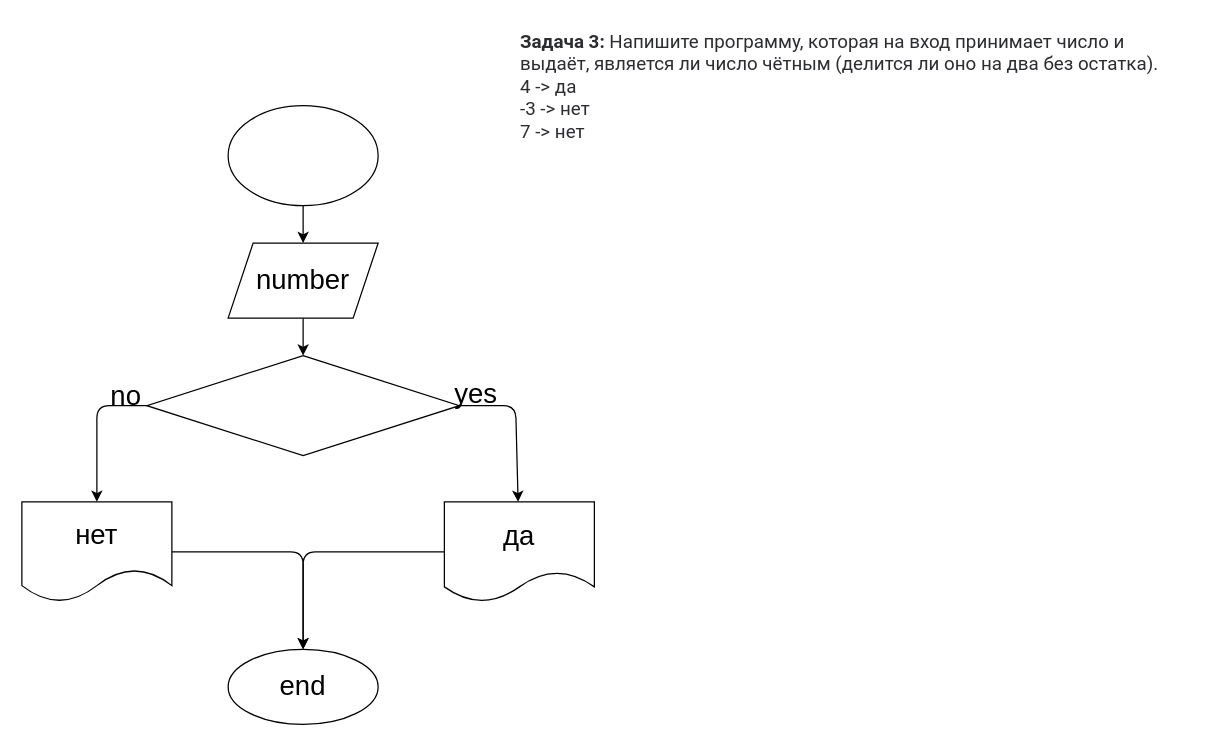
Some shapes in this 1215 by 746 pixel diagram are drawn without their labels. The shapes that lost their labels are listed below. From the top down, each one's centre as x and y in pixels, then its label:
At point 302,155: "start".
At point 302,405: "number mod 2 == 0".
